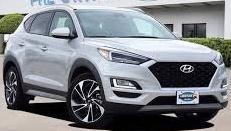SUV: (5, 7, 228, 127)
